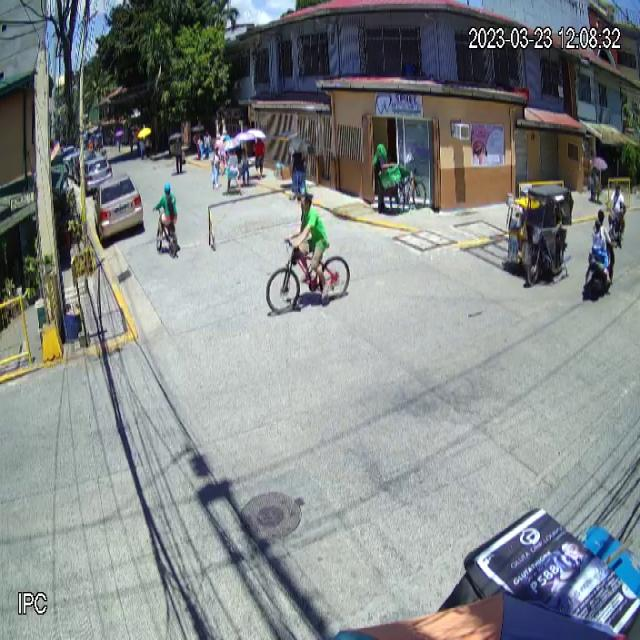Tricycle: (504, 184, 574, 290)
